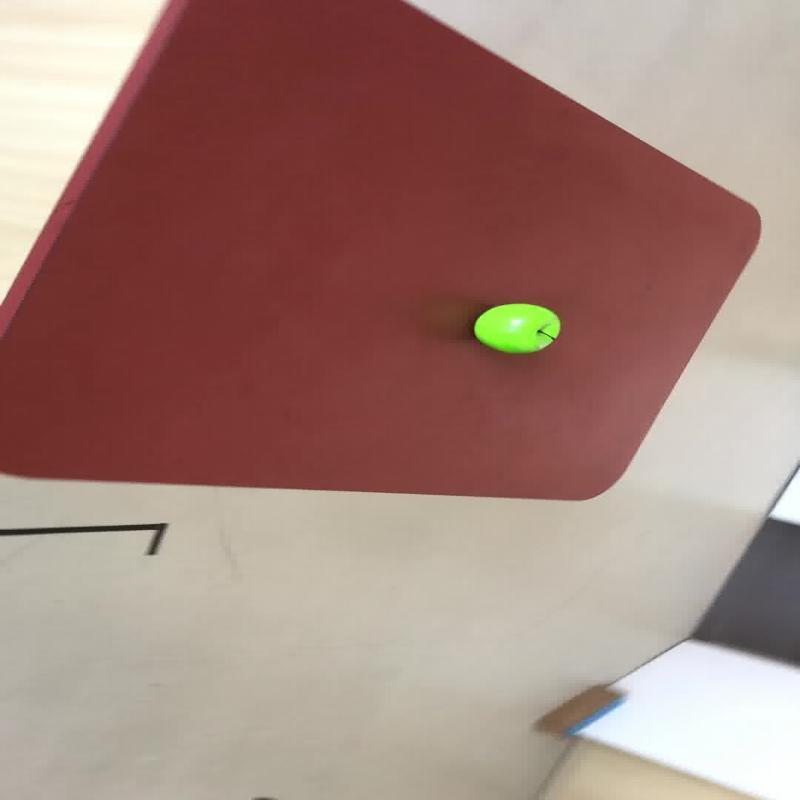apple: (471, 302, 560, 353)
